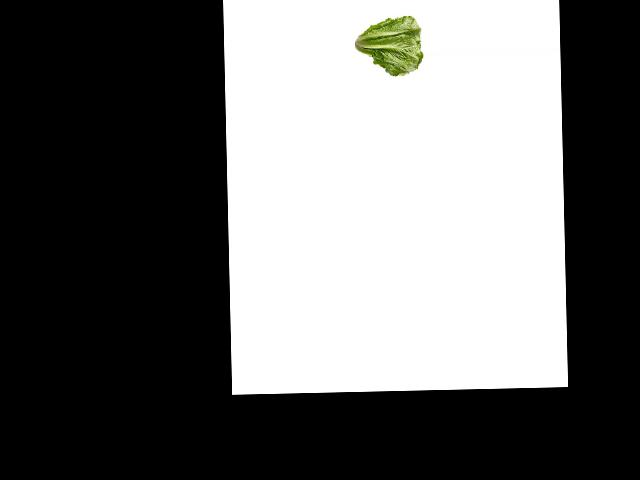lettuce: (350, 17, 425, 79)
